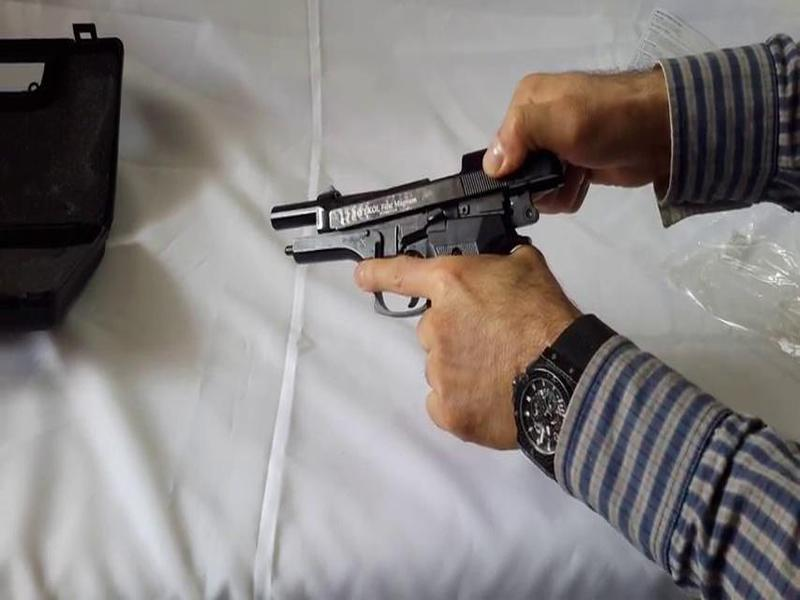Pistola: (274, 121, 567, 391)
